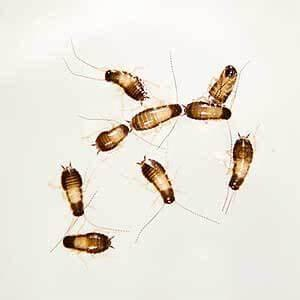cockroach: (140, 156, 176, 206), (103, 66, 148, 106), (228, 132, 256, 194), (128, 102, 182, 132), (60, 163, 86, 220), (94, 122, 130, 154), (184, 98, 232, 122), (210, 62, 238, 102), (62, 232, 112, 254)
